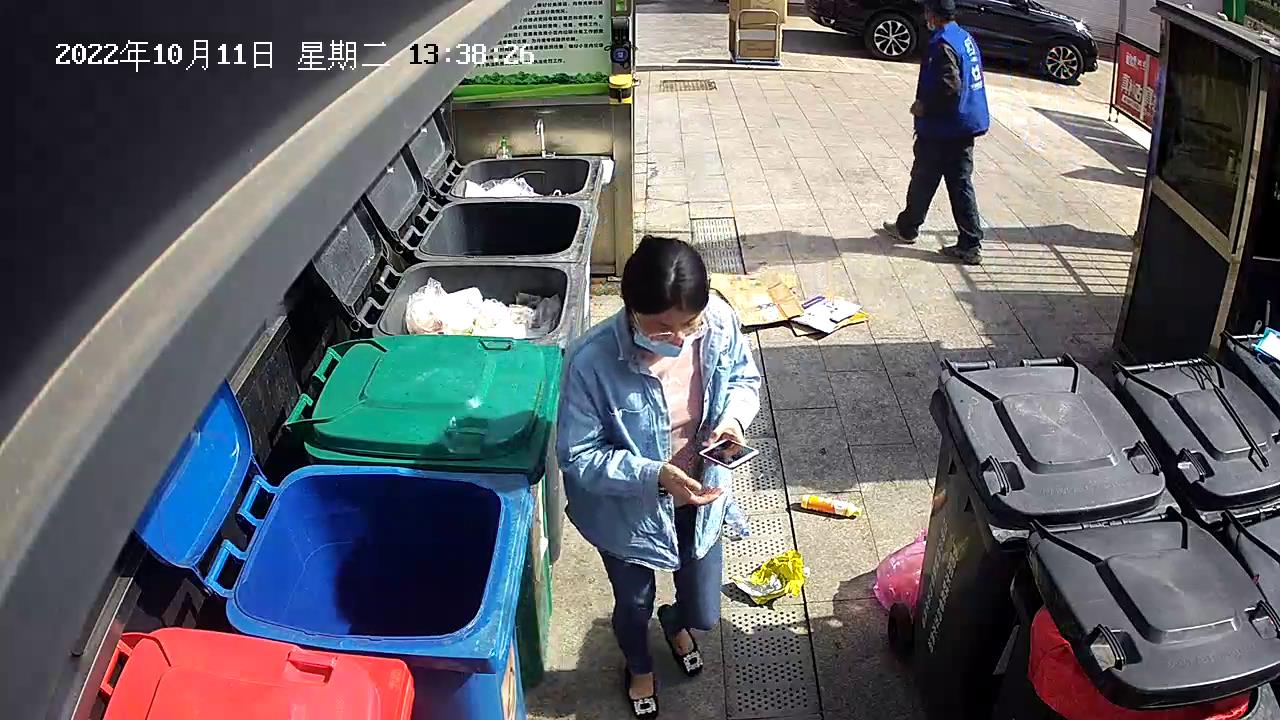garbage: (729, 547, 810, 608)
garbage-bag: (869, 525, 935, 612)
suliaozhipin: (796, 491, 863, 523), (720, 495, 756, 541)
worker: (546, 228, 769, 720), (875, 1, 997, 269)
zhizhipin: (705, 263, 809, 331), (787, 289, 875, 342)
